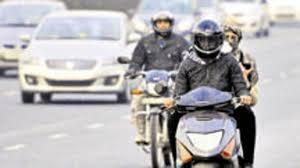helmet: (191, 18, 224, 60), (151, 10, 175, 37)
